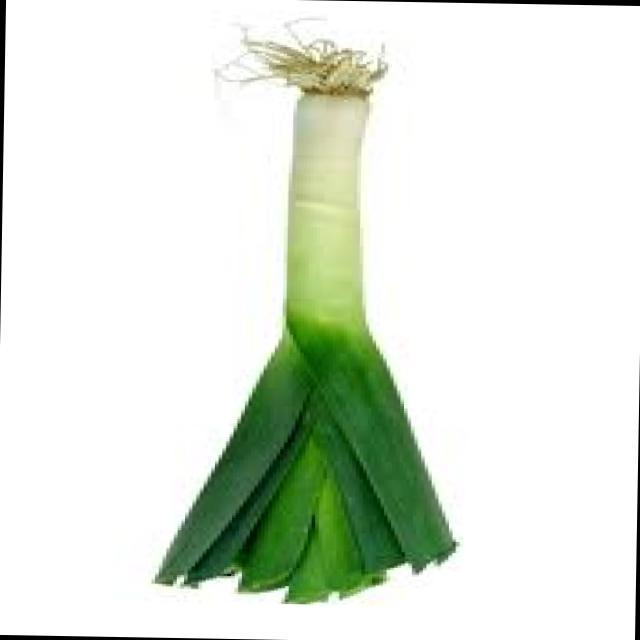Green Onions: (125, 10, 533, 628)
